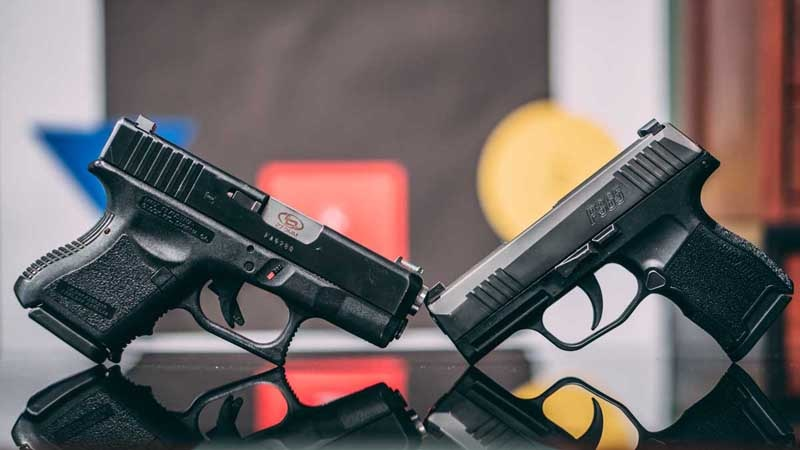Gun: (424, 154, 798, 341), (74, 134, 376, 325)
